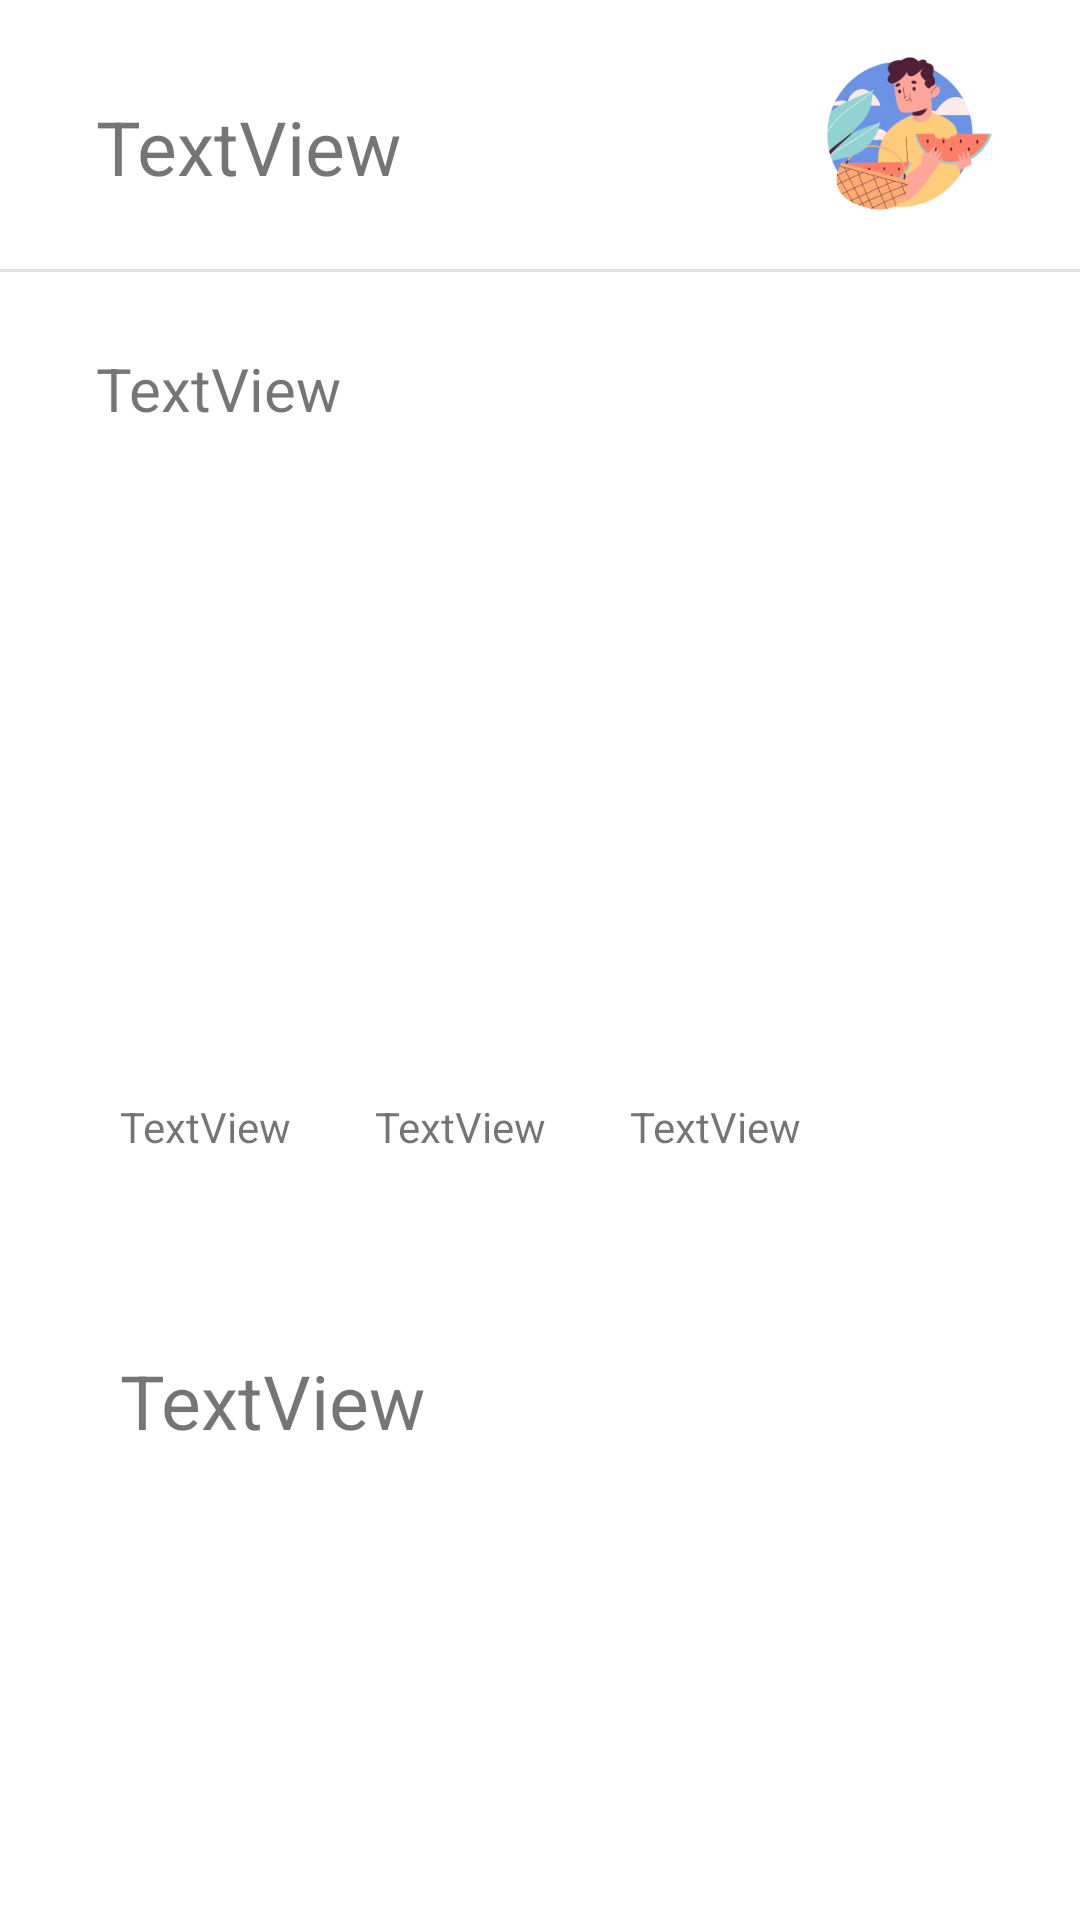

Point at icon controls on the screen. Image size 1080 x 1920, points as point (x, y).
eating: point (909, 133)
